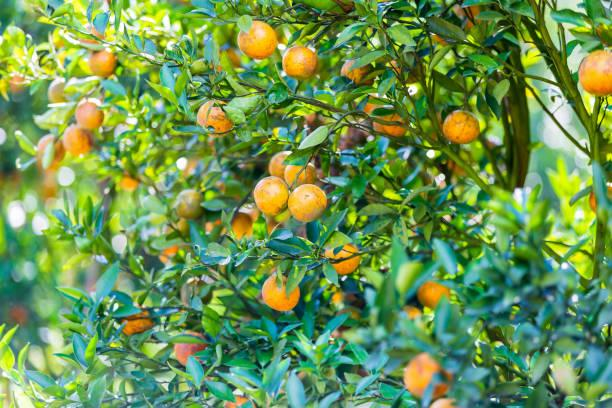orange: (231, 142, 341, 240), (227, 18, 280, 67), (435, 104, 490, 144), (572, 44, 612, 96), (261, 273, 305, 313), (328, 239, 369, 281), (35, 134, 89, 162), (287, 44, 328, 80), (189, 101, 230, 136), (94, 54, 126, 82), (76, 101, 107, 128)
